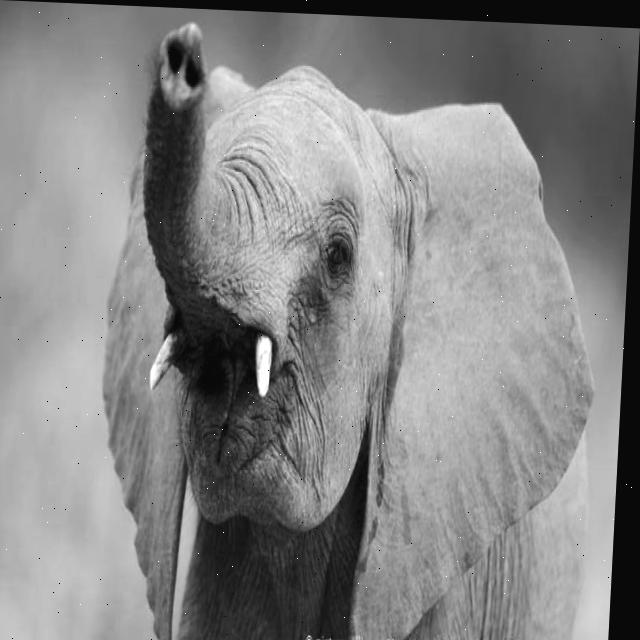Elephant: (88, 17, 614, 640)
